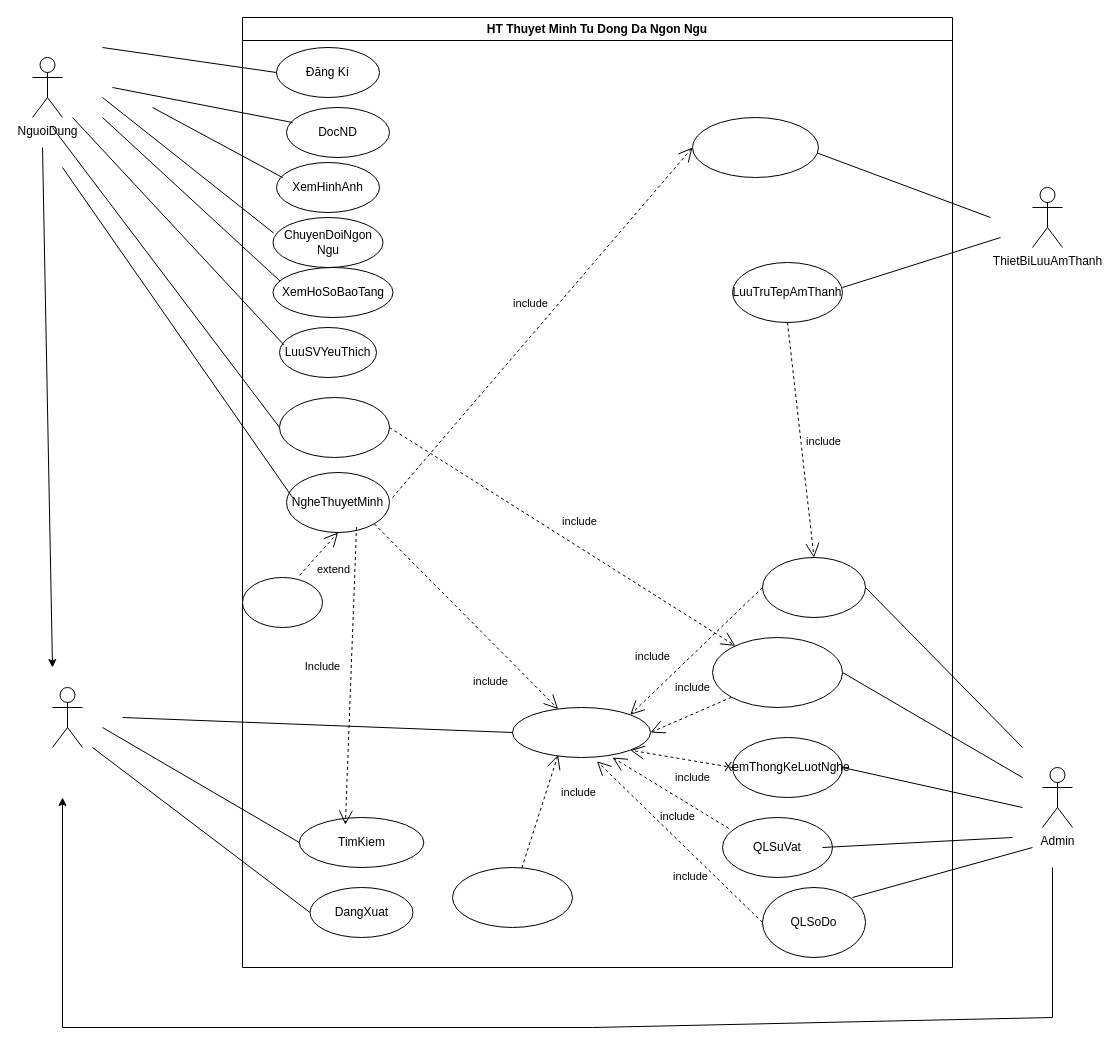
Some shapes in this 1119 by 1053 pixel diagram are drawn without their labels. The centre of each missing label's shape, as x and y in pixels:
ChinhSuaQR: point 777,672
Nguoi: point 67,717
PhatLuongDLAmThanh: point 755,147
QLTepAmThanh: point 814,587
QuetMaQR: point 334,427
XacThucDangNhap: point 512,897
XemPhuDe: point 282,602
Đăng Nhập: point 581,732
